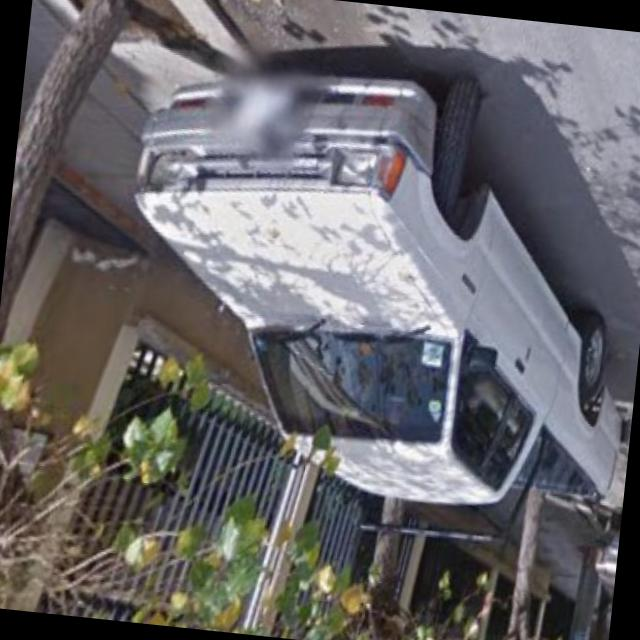car: (105, 24, 640, 517)
